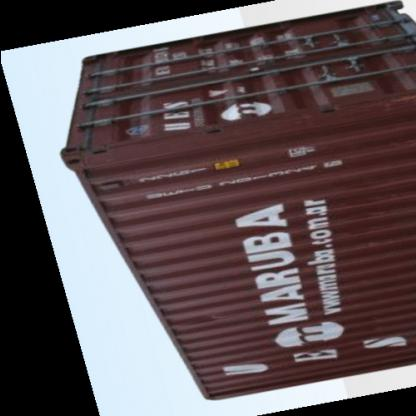Damage: (317, 182, 393, 269), (350, 86, 415, 115), (184, 305, 222, 329)
